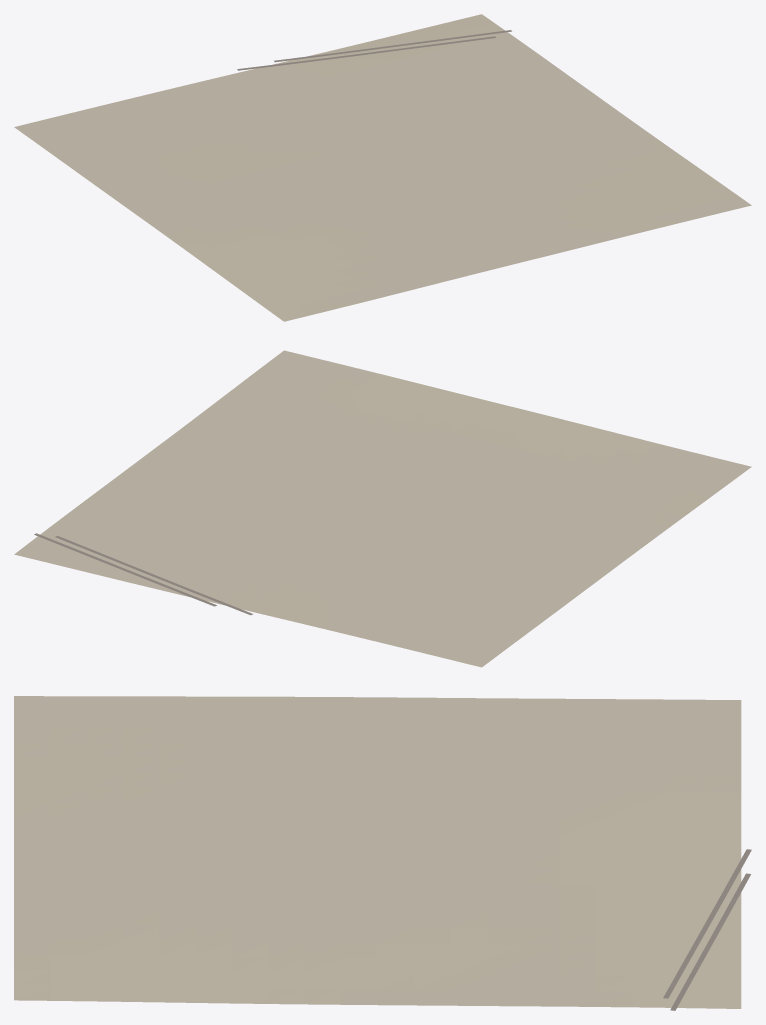
Rendered from bolak_-30_-12.glb.
3 renders of one model, top to bottom at view 1: azimuth 30°, elevation 25°; view 2: azimuth 150°, elevation 25°; view 3: azimuth 270°, elevation 25°, orthographic. The views are drawn at different scales.
Visible parts, largest first — view 1: Yer_Tuproq-col, Temir_Yol; view 2: Yer_Tuproq-col, Temir_Yol; view 3: Yer_Tuproq-col, Temir_Yol.
Part boxes in pixels (left/top/right/bottom): Yer_Tuproq-col: left=14, top=14, right=751, bottom=321; Temir_Yol: left=237, top=30, right=511, bottom=70; Yer_Tuproq-col: left=14, top=350, right=751, bottom=667; Temir_Yol: left=34, top=533, right=253, bottom=615; Yer_Tuproq-col: left=14, top=696, right=741, bottom=1008; Temir_Yol: left=663, top=849, right=751, bottom=1010.
Bounding box in the file's own units: 404 × 5.27 × 406.
